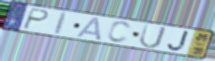A: (75, 16, 103, 42)
C: (105, 21, 133, 45)
I: (53, 11, 70, 37)
J: (166, 30, 190, 52)
P: (21, 7, 51, 31)
U: (138, 23, 168, 50)
